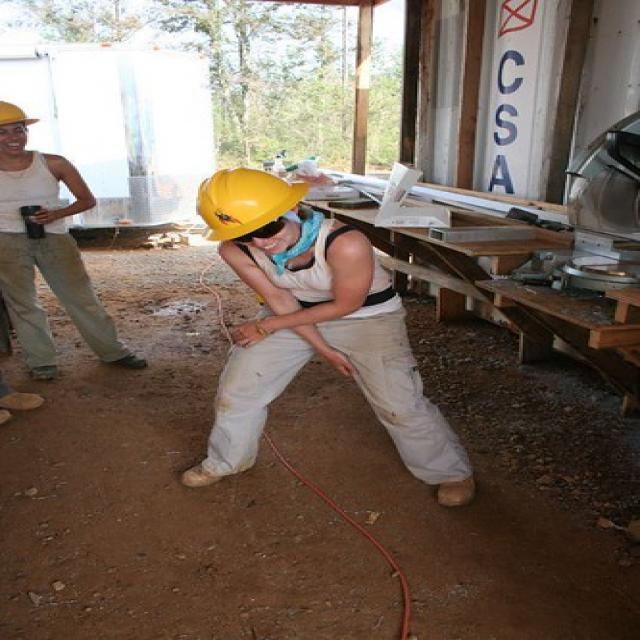Safety-Helmet: (190, 162, 314, 245), (1, 95, 44, 132)
